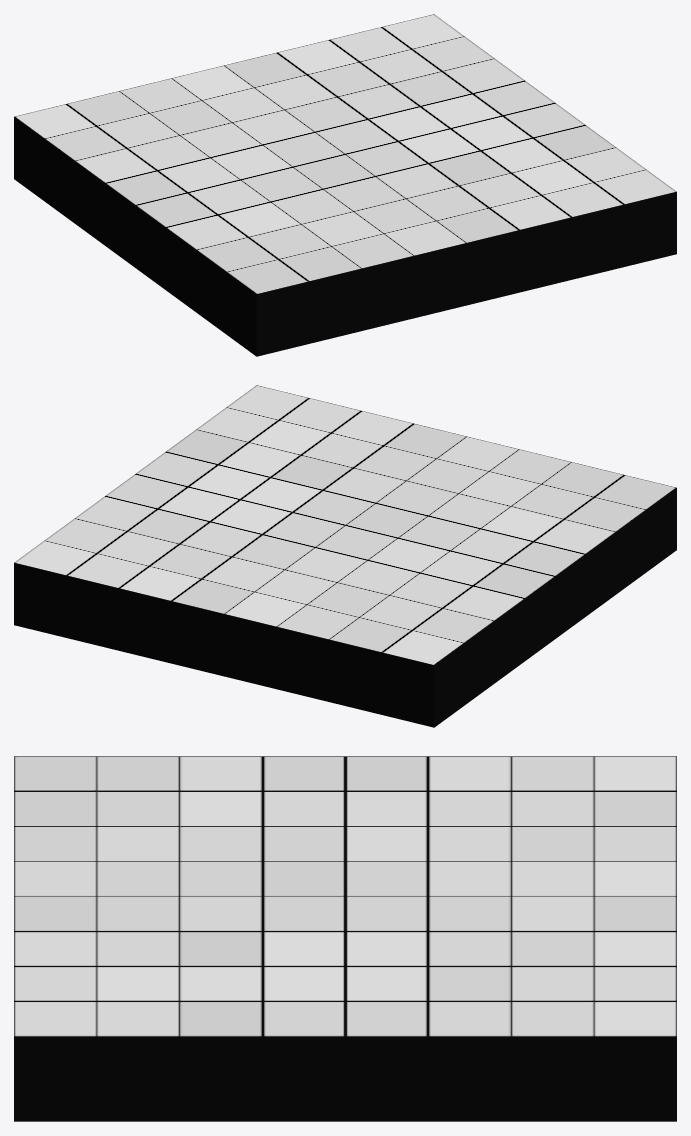
File: board.glb
The picture shows the model from 3 angles, top to bottom: view 1: azimuth 30°, elevation 25°; view 2: azimuth 150°, elevation 25°; view 3: azimuth 270°, elevation 25°; orthographic projection. The views are drawn at different scales.
Parts seen in each view (by area): view 1: Cube; view 2: Cube; view 3: Cube.
Part boxes in pixels (left/top/right/bottom): Cube: left=14, top=14, right=676, bottom=356; Cube: left=14, top=385, right=676, bottom=727; Cube: left=14, top=756, right=676, bottom=1121.
Size of the model in its own units: 14.1 by 2 by 14.1.
1 material, 1 textured.
